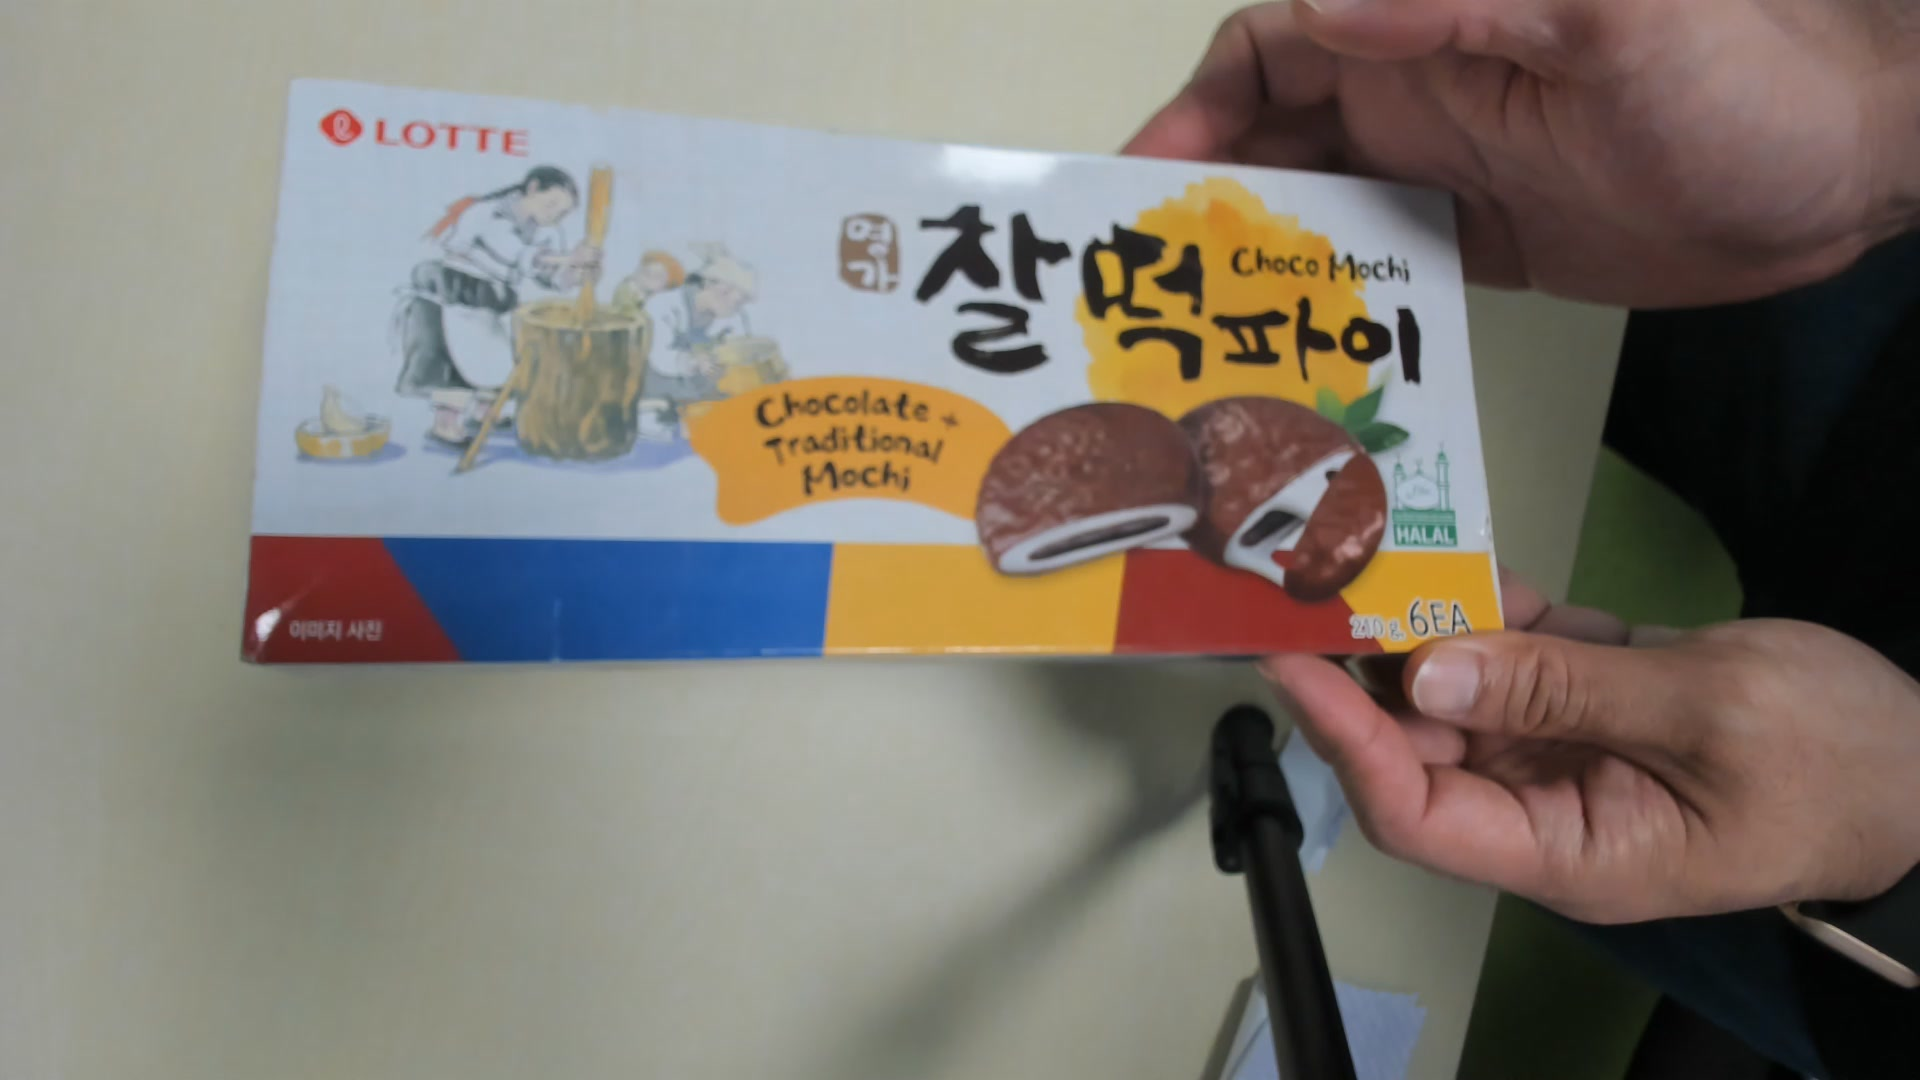SweetsChocolatesOthers_200-299g_NonHalal_Nonhealthy: (235, 83, 1526, 683)
